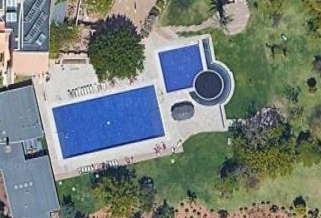pool: (56, 107, 167, 143), (166, 53, 195, 86)
